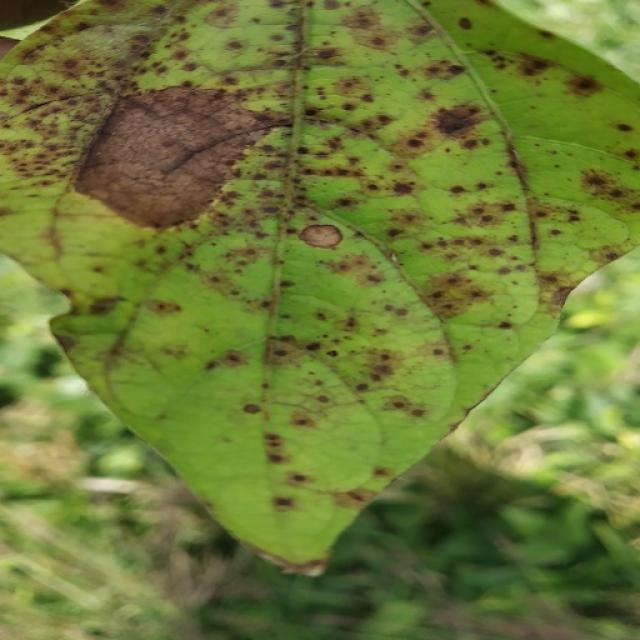Anthracnose: (266, 228, 442, 443), (77, 81, 277, 241), (299, 78, 389, 199), (3, 94, 107, 188), (45, 21, 147, 77), (261, 335, 353, 390), (427, 195, 526, 240), (331, 7, 418, 56), (421, 269, 500, 316), (578, 167, 633, 205), (431, 102, 486, 138), (322, 251, 380, 281), (341, 5, 387, 35), (203, 347, 250, 373), (204, 5, 243, 29), (86, 296, 124, 316), (142, 298, 182, 316), (550, 285, 577, 305), (573, 76, 597, 92), (390, 181, 414, 195), (275, 496, 293, 508), (457, 17, 473, 30)
Blackgram: (0, 0, 639, 570)
